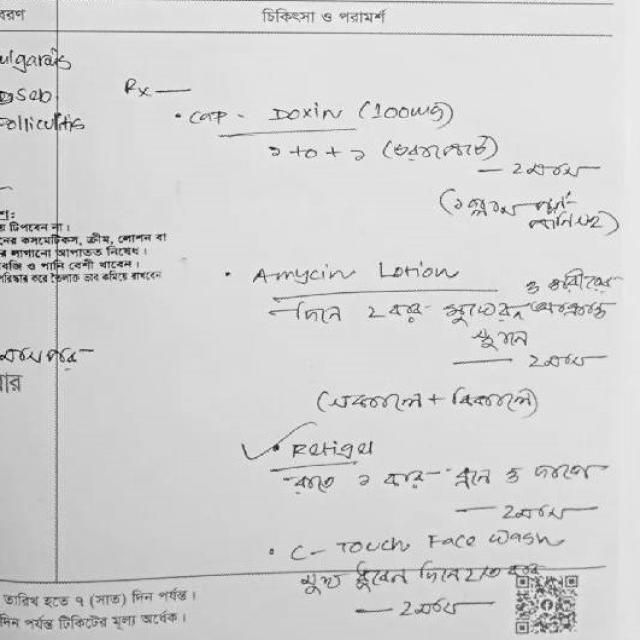medicine: (286, 533, 412, 567), (244, 260, 362, 290), (286, 436, 378, 462), (264, 100, 345, 128)
